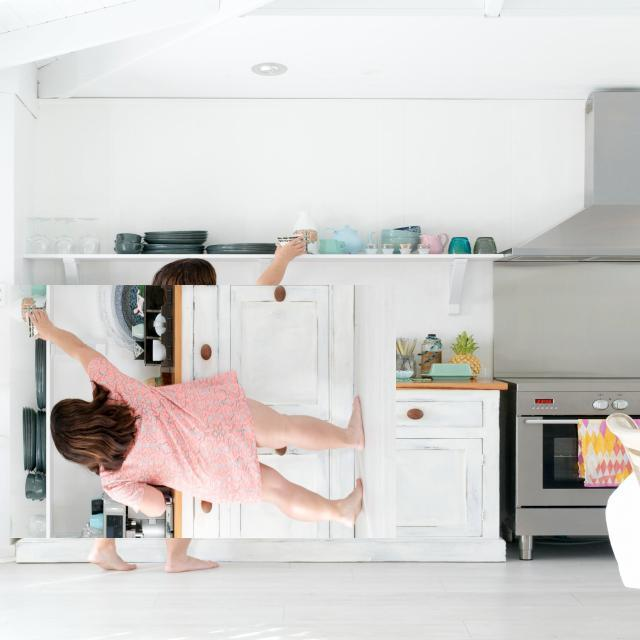NotFall: (48, 243, 430, 639)
